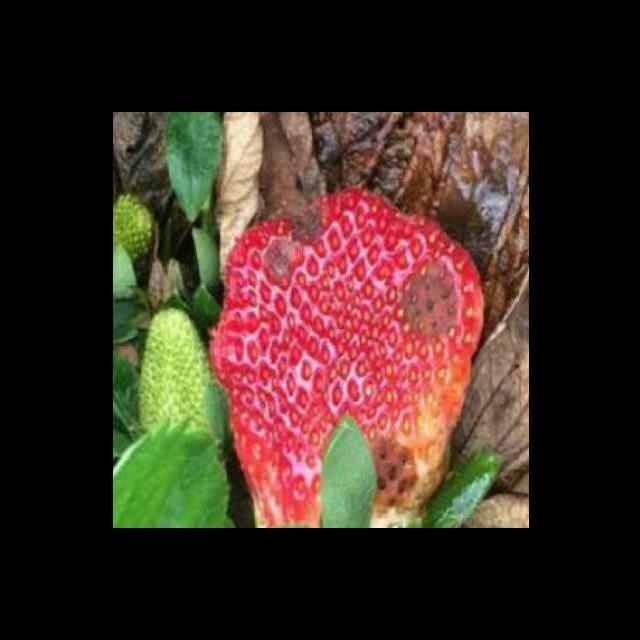Anthracnose Fruit Rot: (364, 422, 426, 519), (398, 255, 461, 345), (261, 204, 325, 281)
